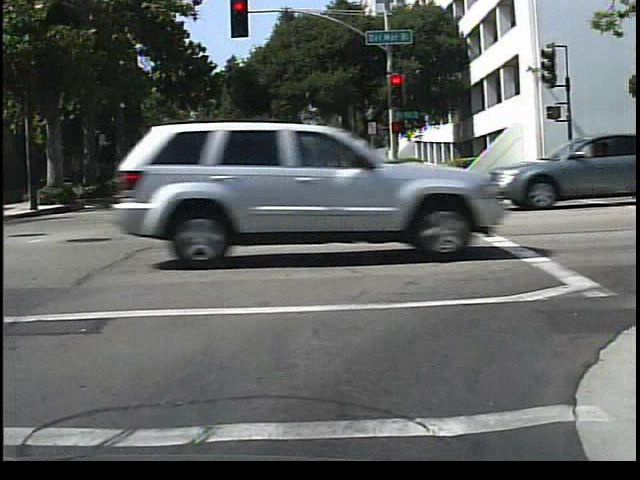person: (590, 131, 616, 191)
